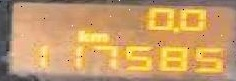-: (169, 26, 178, 33)
0: (176, 7, 205, 31), (145, 7, 174, 29)
1: (33, 43, 47, 67), (69, 44, 82, 67)
5: (191, 46, 220, 71), (122, 44, 151, 69)
7: (89, 43, 116, 68)
8: (156, 45, 187, 71)
X: (87, 32, 107, 42), (73, 28, 87, 42)
